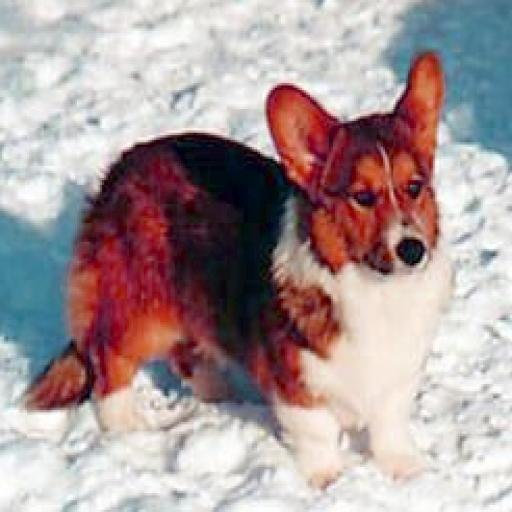dog_face: (264, 54, 458, 284)
